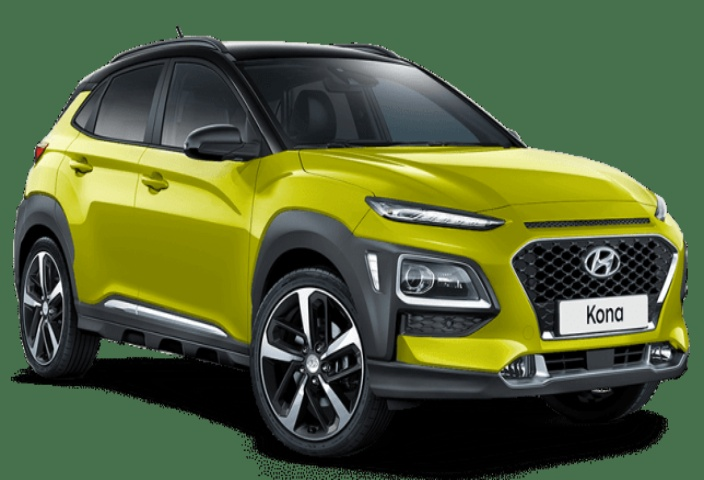camper: (18, 33, 699, 449)
